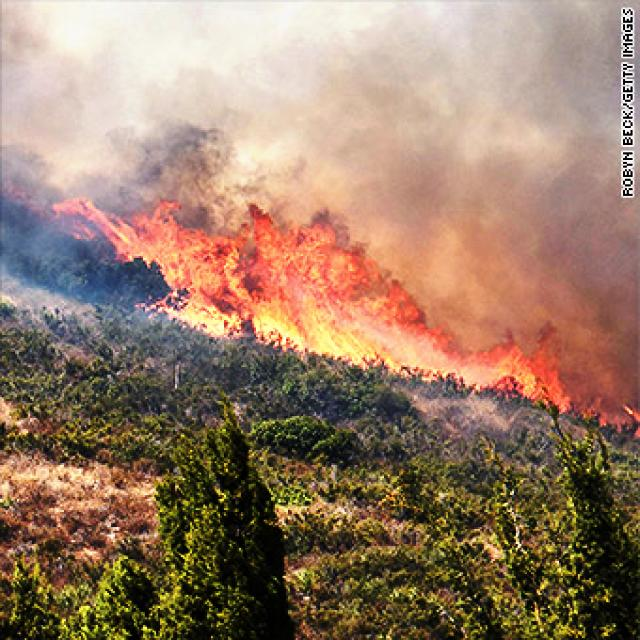api: (46, 176, 575, 415)
asap: (1, 1, 635, 421), (81, 110, 356, 239)
